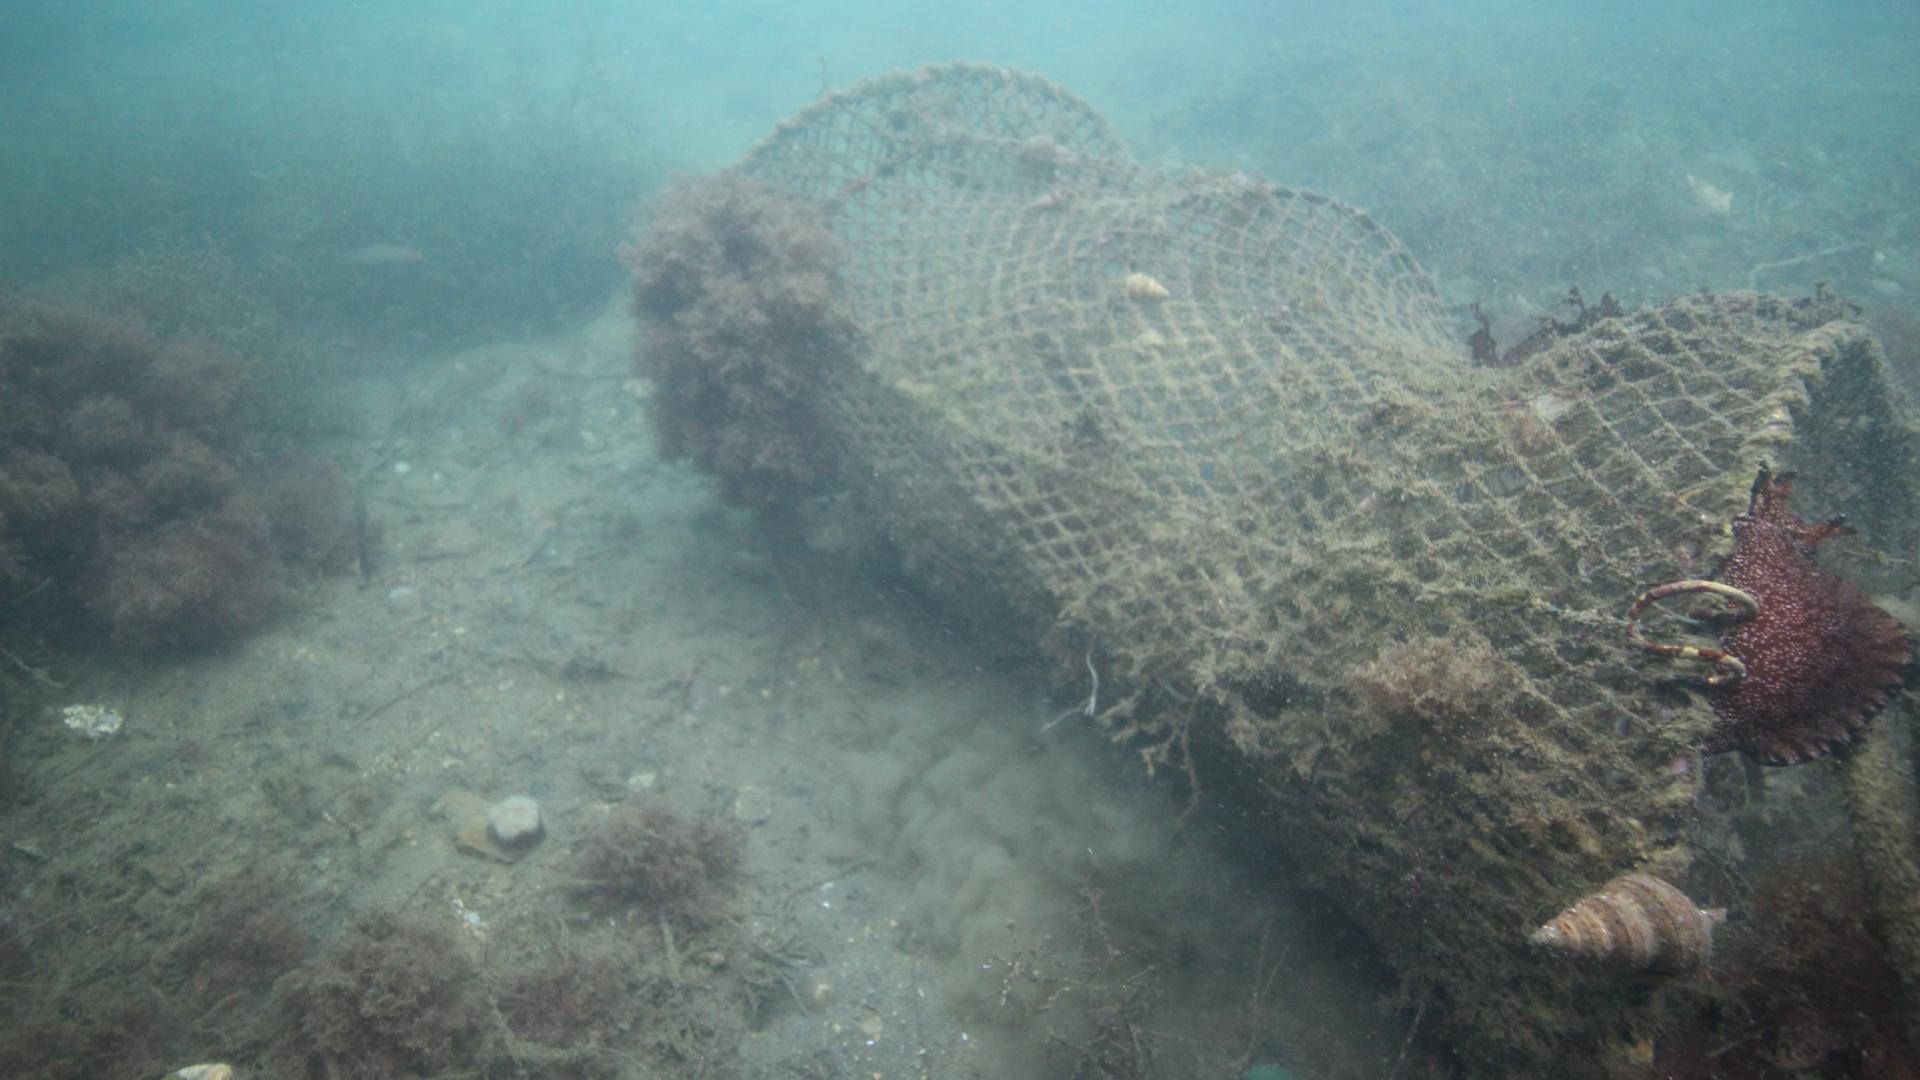spring fish trap: (647, 63, 1905, 1080)
